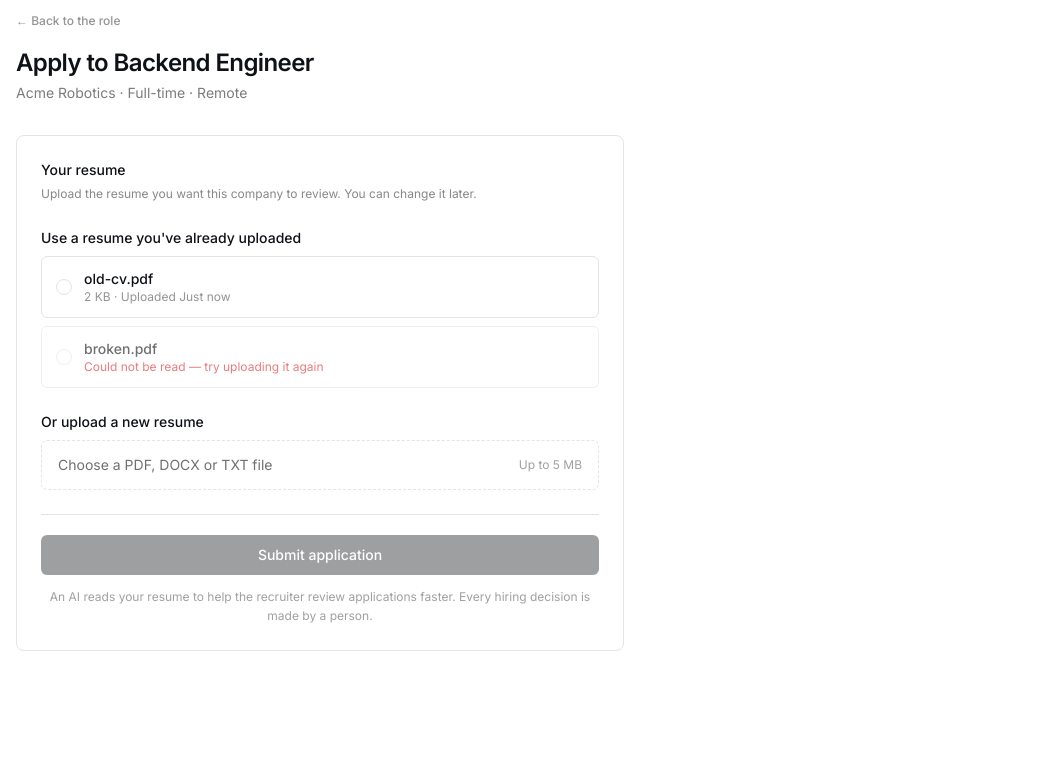
apply page › as a candidate with saved resumes › sends nothing until Submit, then applies and attaches the chosen resume
Click the button "old-cv.pdf 2 KB · Uploaded Just now".
click(119, 278)  # box x1=41 y1=256 x2=599 y2=318
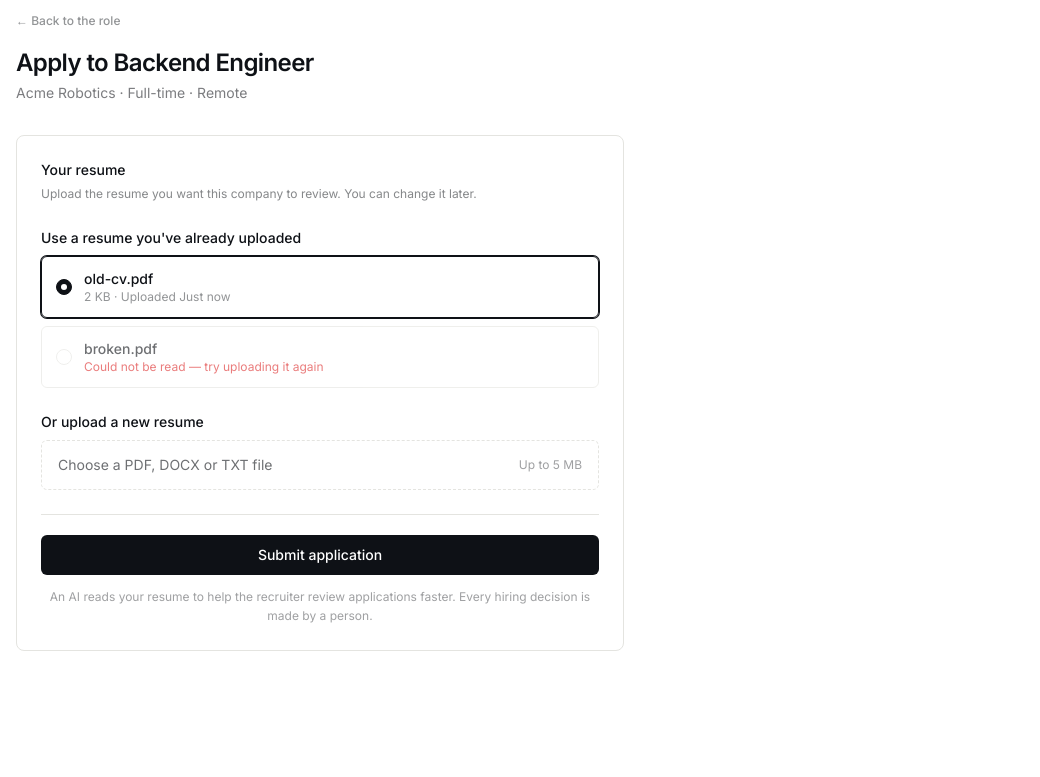
Expected: the button "Submit application" is enabled
Click the button "Submit application".
click(320, 554)  # box x1=41 y1=534 x2=599 y2=574
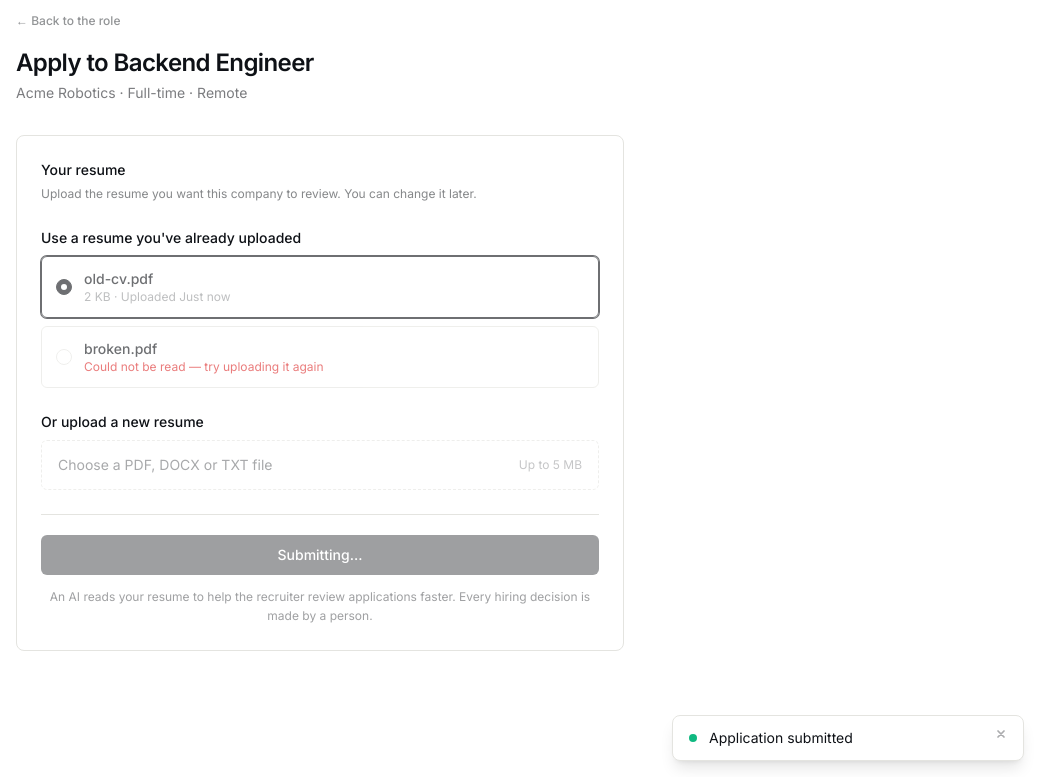
Expected: the text "Application submitted" is shown, x1=709 y1=729 x2=853 y2=746
